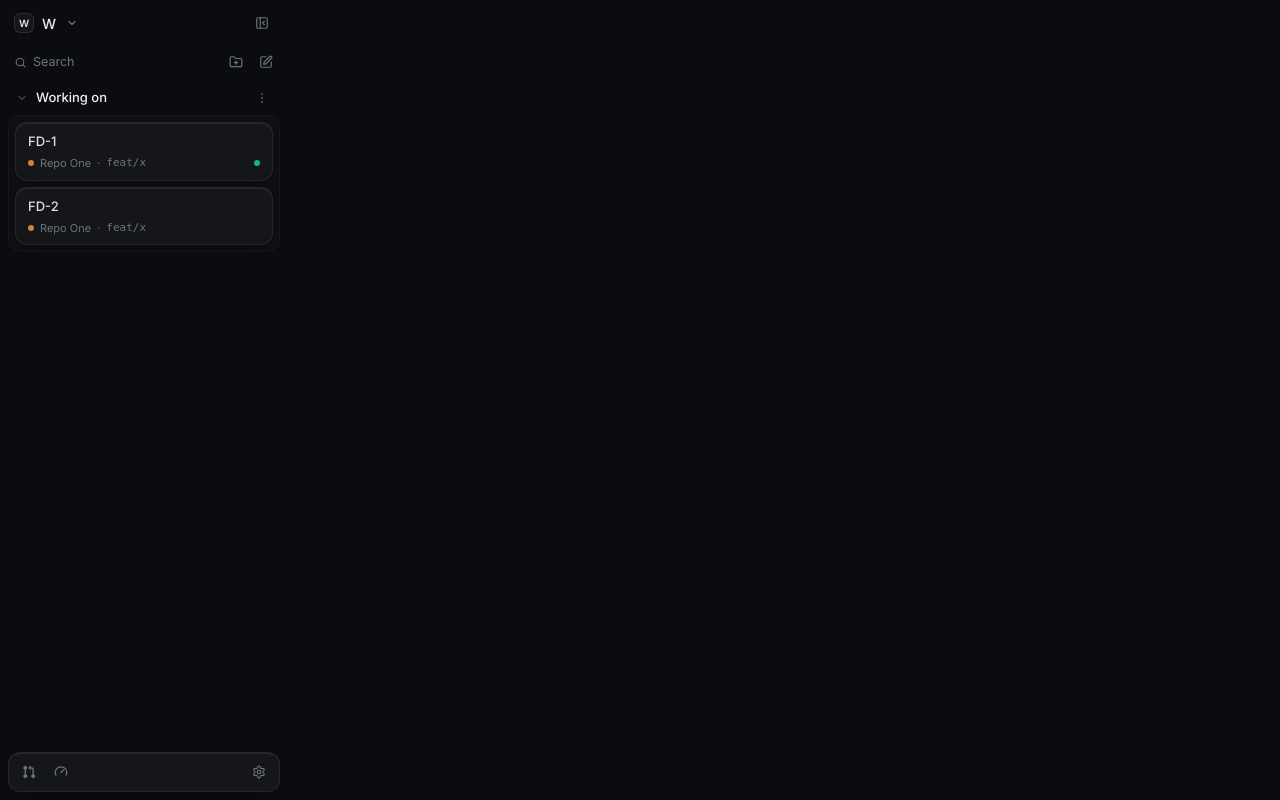
Test: Sidebar tree › has no New worktree button of its own; the workspace row is just its name and chevron, New is in the toolbar under it
This screenshot has width=1280, height=800.
Click the button named "New" at (266, 62), box [252,48,280,76]
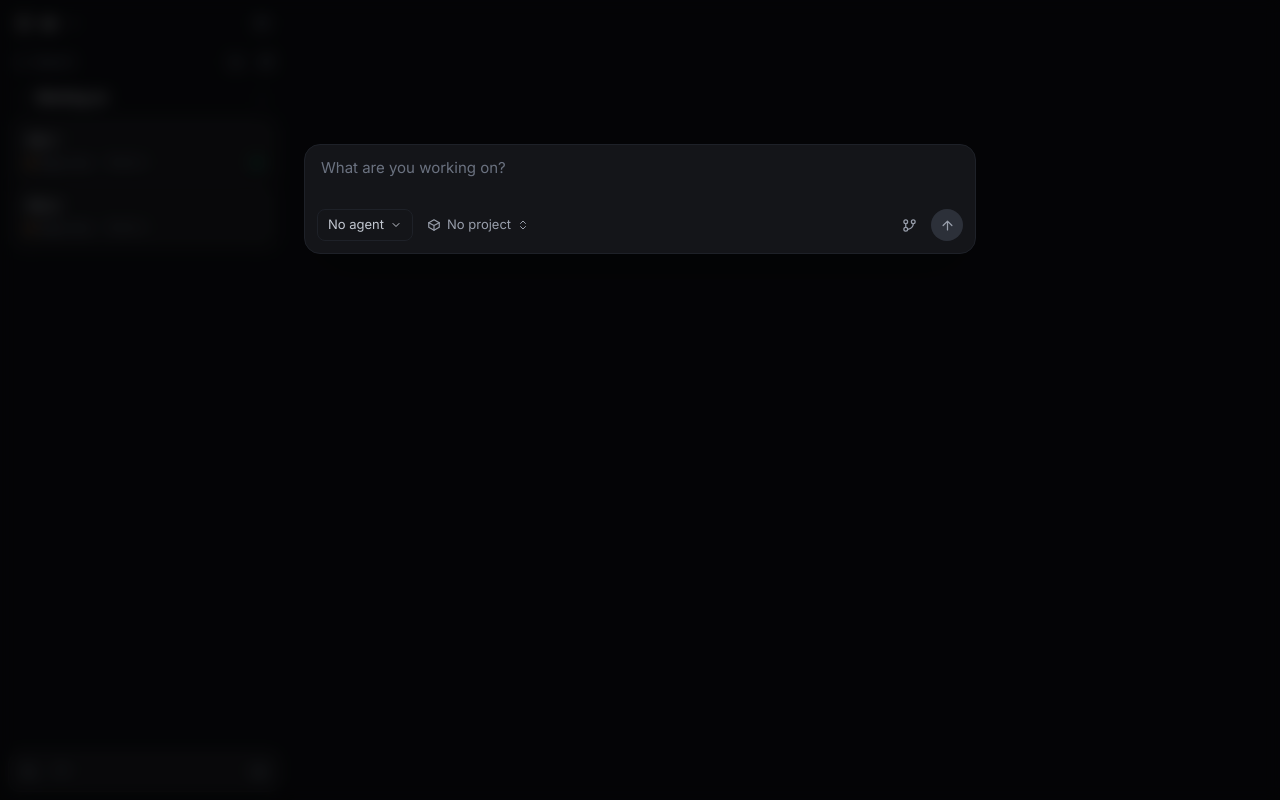
Expected: the number of dialogs named "New focus" is 1, [304,144,976,254]
